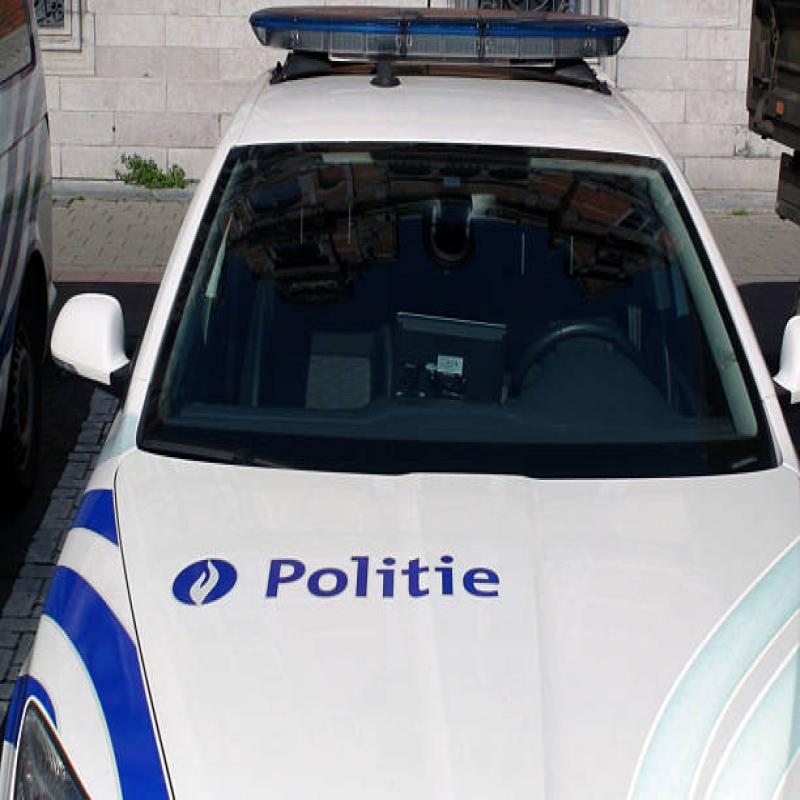AmbulanceSiren: (236, 2, 641, 110)
